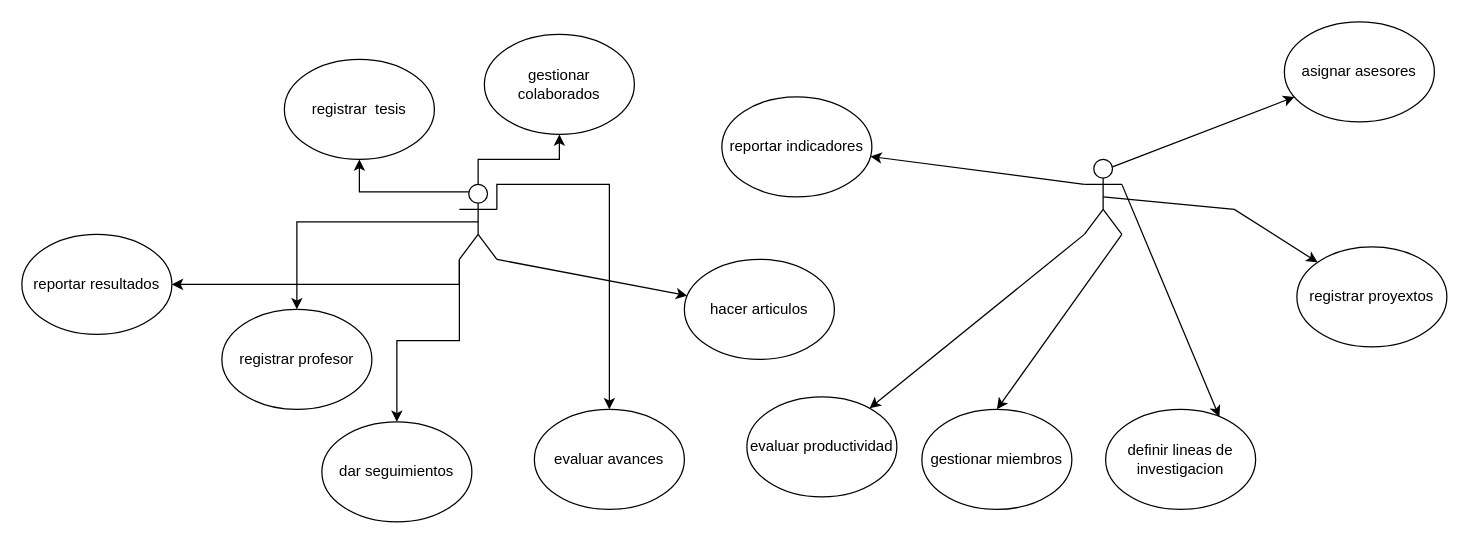
This 1469x544 diagram has some shape labels left out. Each missing label, with the box of its shape:
lider CA: (1083, 158, 1122, 234)
profesor: (458, 183, 497, 259)
